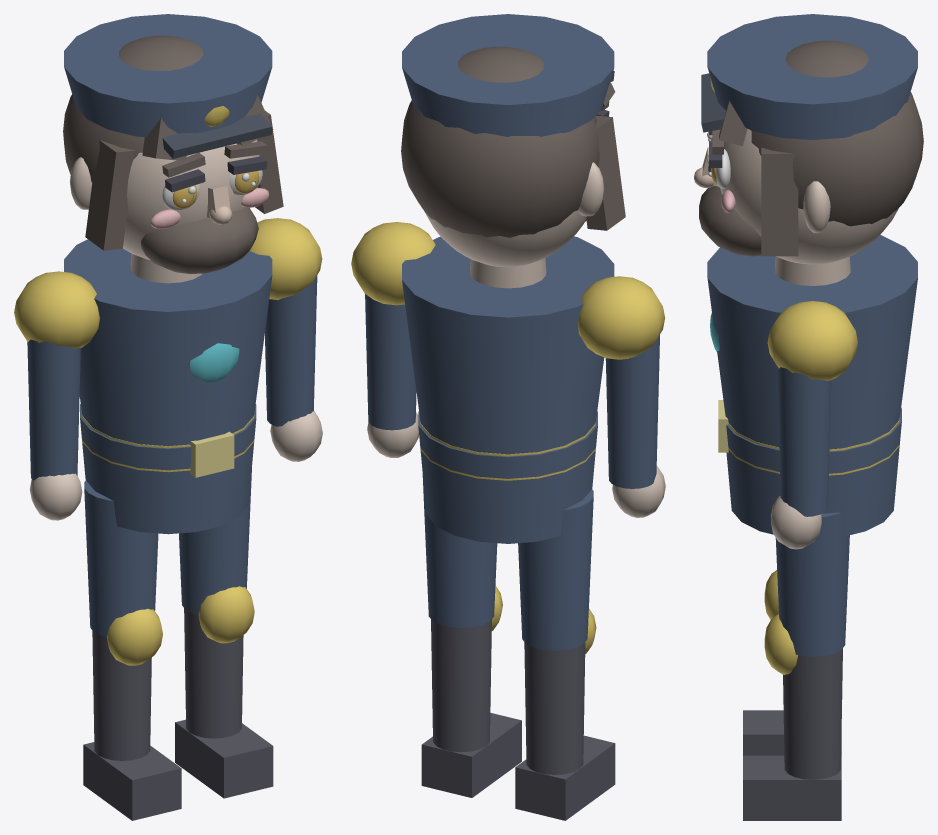
File: human_commander_clear_face_hd.glb
3 renders of one model, left to right at view 1: azimuth 30°, elevation 25°; view 2: azimuth 150°, elevation 25°; view 3: azimuth 270°, elevation 25°, orthographic.
Parts seen in each view (by area): view 1: human_commander_clear_face_hd; view 2: human_commander_clear_face_hd; view 3: human_commander_clear_face_hd.
Boxes of the visible parts, <box> form: human_commander_clear_face_hd: <box>14,14,322,820</box>; human_commander_clear_face_hd: <box>351,14,665,820</box>; human_commander_clear_face_hd: <box>694,14,923,820</box>.
Size of the model in its own units: 0.84 by 1.98 by 0.5584.
